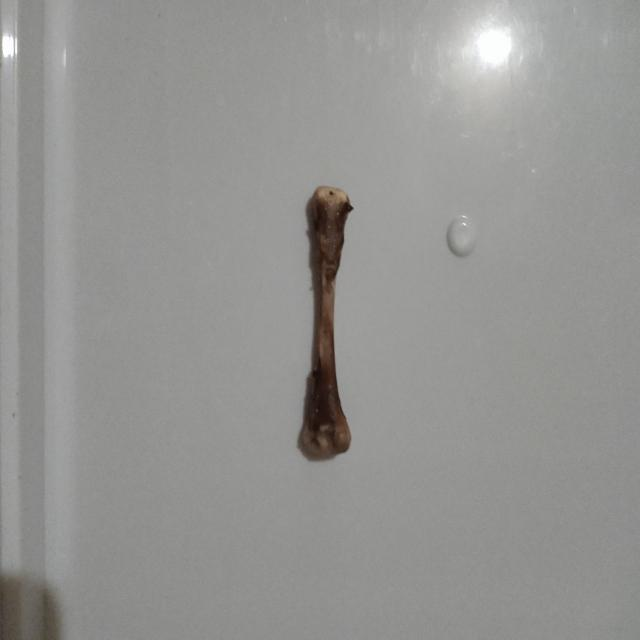bone: (297, 180, 353, 464)
